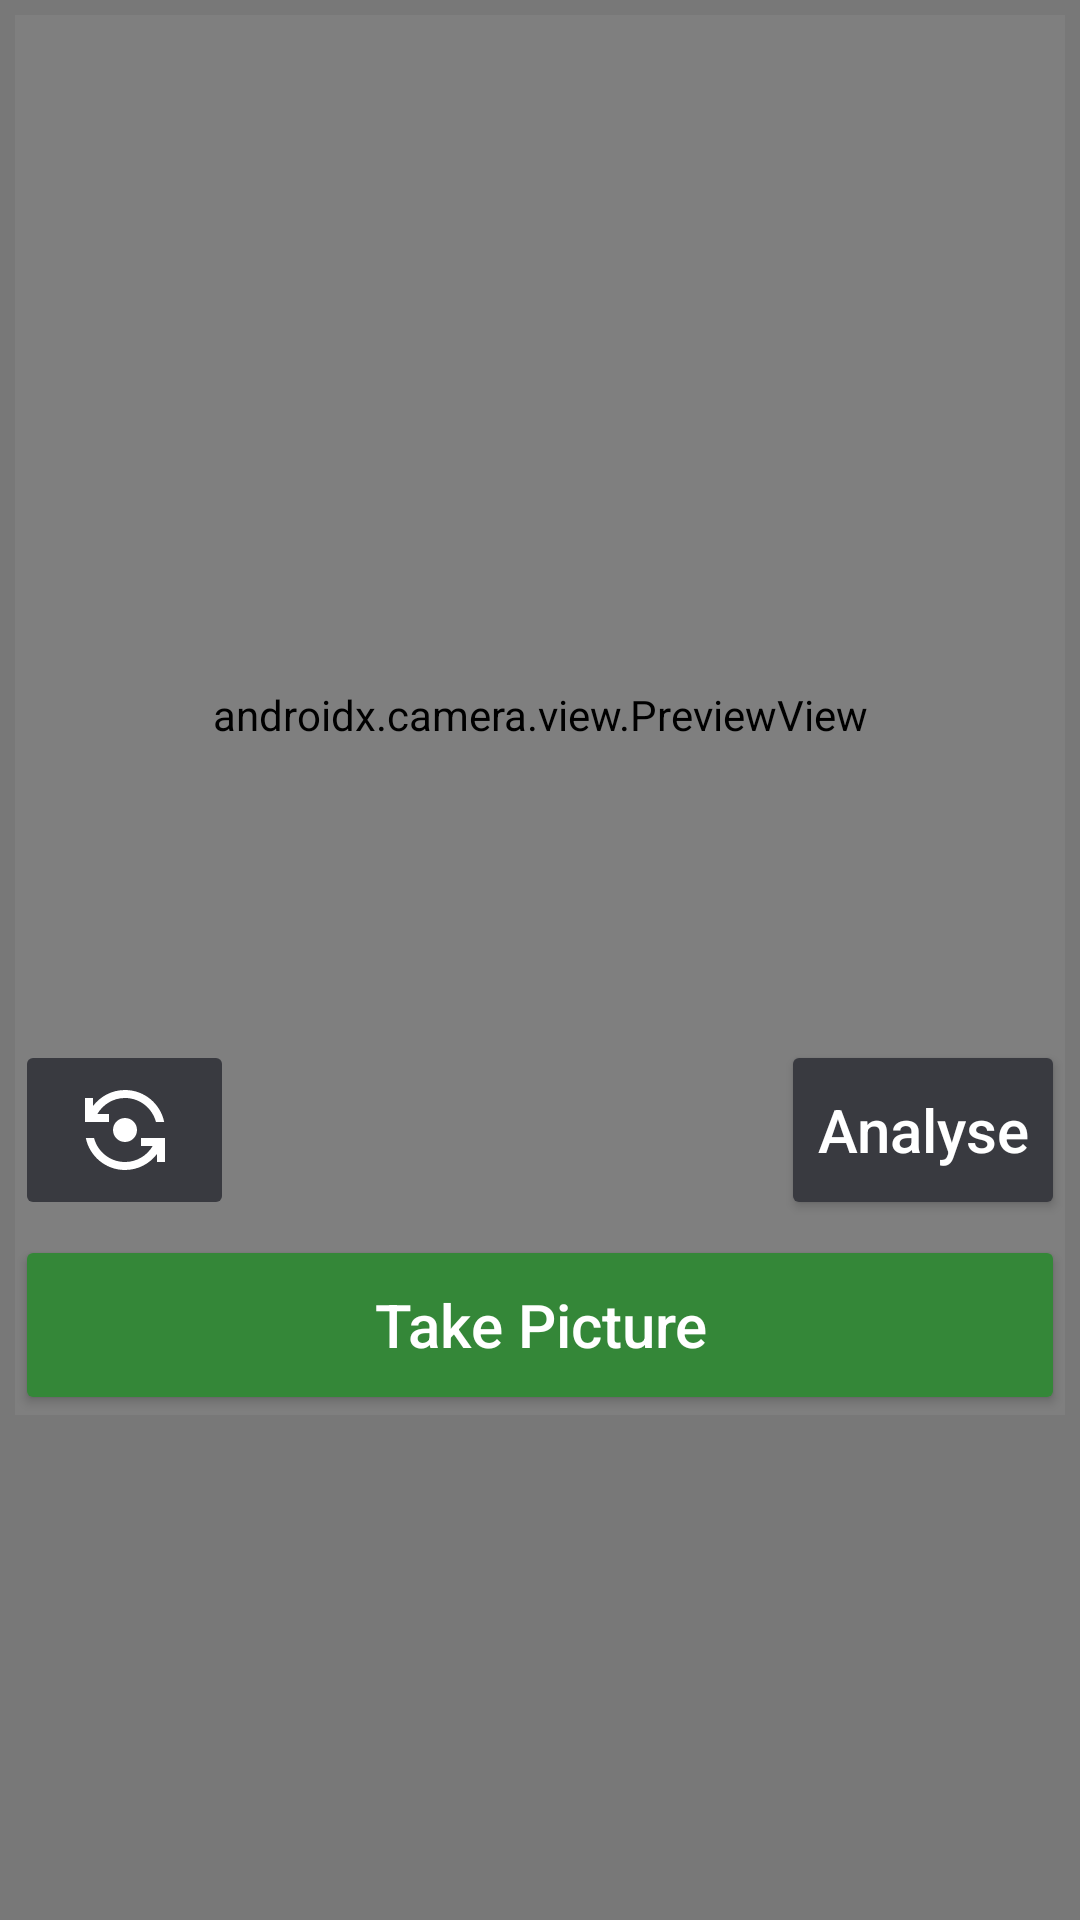

Icons on this 1080w x 1920h Android screen, each with its box as BBox(x1, y1, x2, y2):
flip camera: BBox(27, 1058, 222, 1202)
